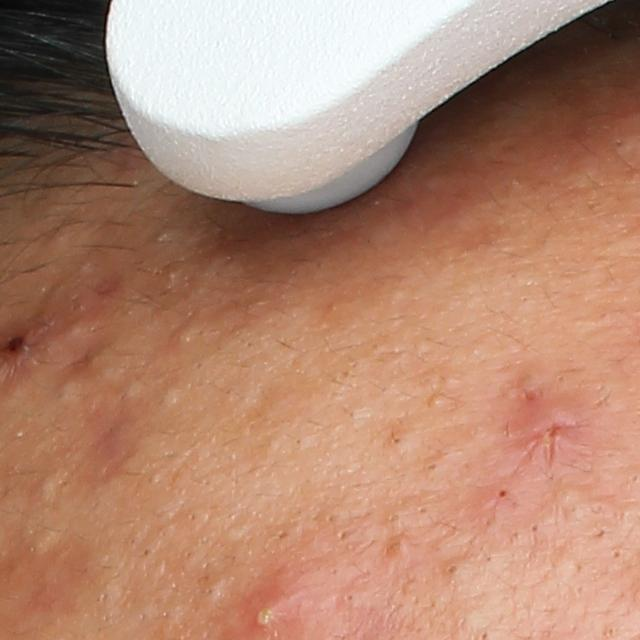comedo: (383, 430, 414, 456), (170, 324, 199, 350), (199, 577, 225, 604), (443, 559, 467, 583), (36, 477, 57, 504), (382, 508, 407, 528), (161, 386, 181, 410), (340, 590, 363, 610), (427, 392, 447, 410), (611, 544, 625, 559), (273, 530, 290, 542)
papule: (525, 405, 573, 459)
pustule: (242, 589, 292, 640)
